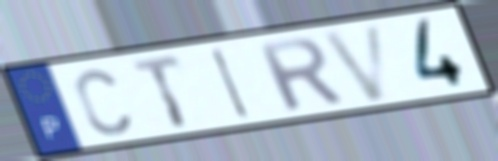4: (412, 16, 469, 91)
C: (71, 67, 134, 138)
I: (208, 44, 253, 122)
R: (252, 34, 348, 114)
T: (127, 52, 192, 130)
V: (317, 20, 392, 105)
